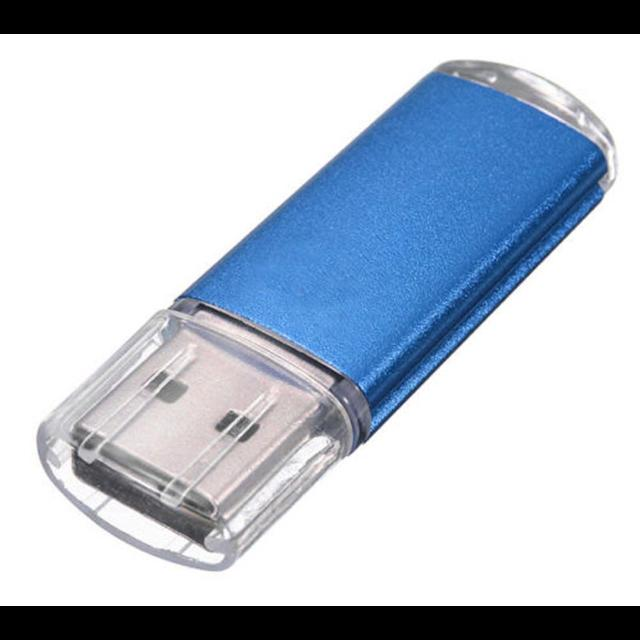USB-Flash-Drive: (23, 50, 613, 572)
